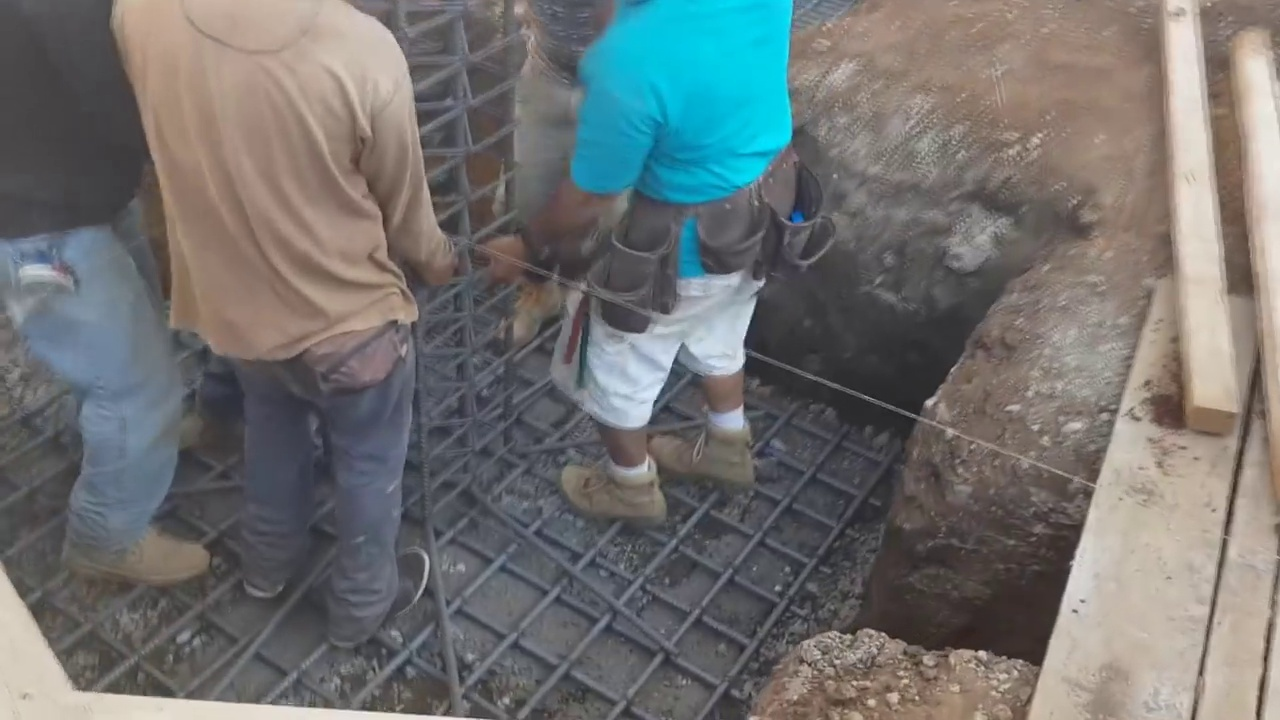person: (100, 0, 448, 678), (492, 0, 829, 522), (4, 6, 213, 590), (455, 3, 597, 347)
